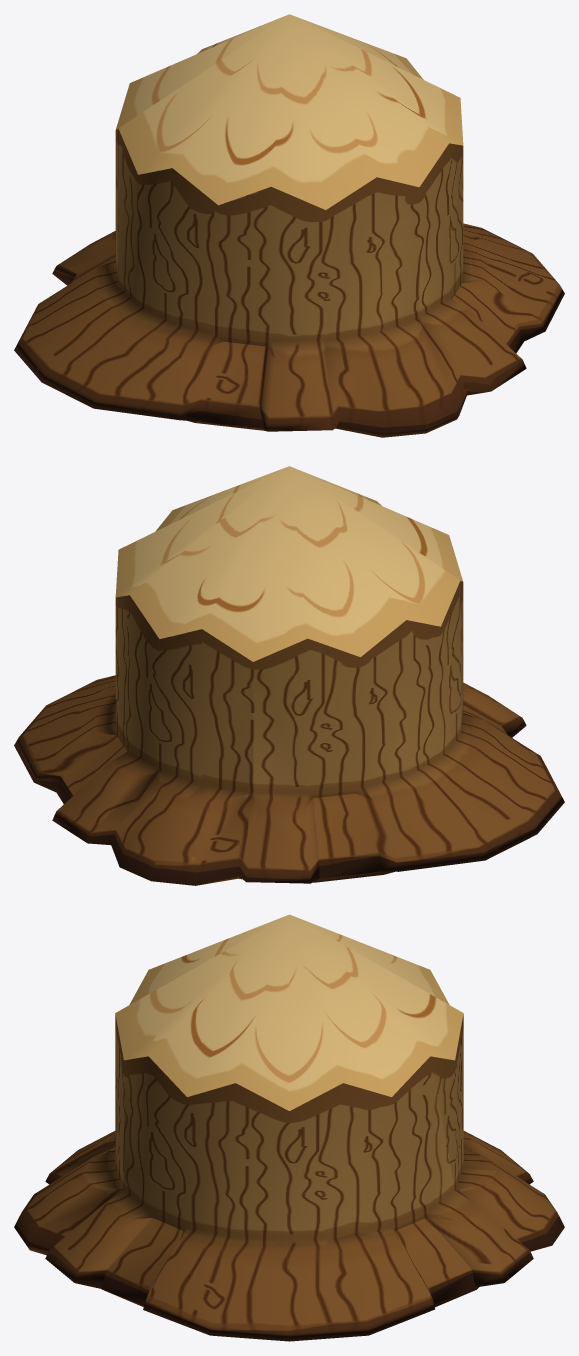
File: Stump.fbx
3 views of the same model, one above another, from view 1: azimuth 30°, elevation 25°; view 2: azimuth 150°, elevation 25°; view 3: azimuth 270°, elevation 25° (orthographic).
Parts seen in each view (by area): view 1: pCylinder7; view 2: pCylinder7; view 3: pCylinder7.
Boxes of the visible parts, x1,y1,x2,y2 form: pCylinder7: (14, 14, 564, 437); pCylinder7: (14, 466, 564, 885); pCylinder7: (14, 914, 564, 1341).
Bounding box in the file's own units: 1.84 × 1.13 × 1.78.
